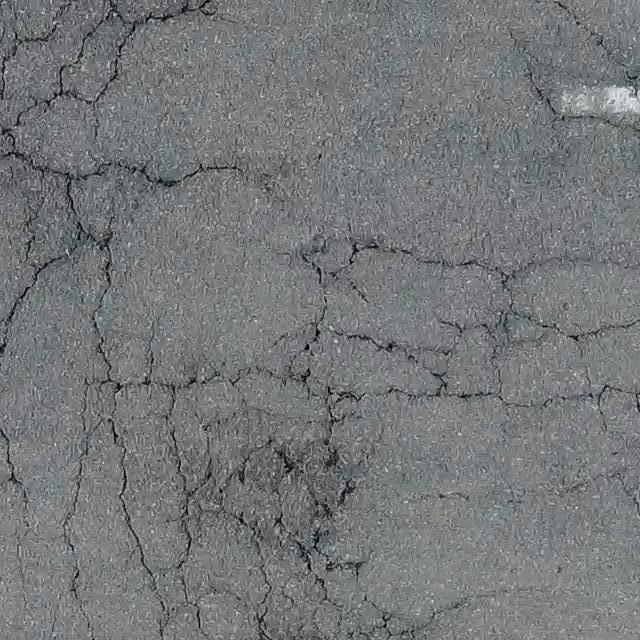PIEL DE COCODRILO: (0, 0, 639, 639), (504, 0, 639, 140)
